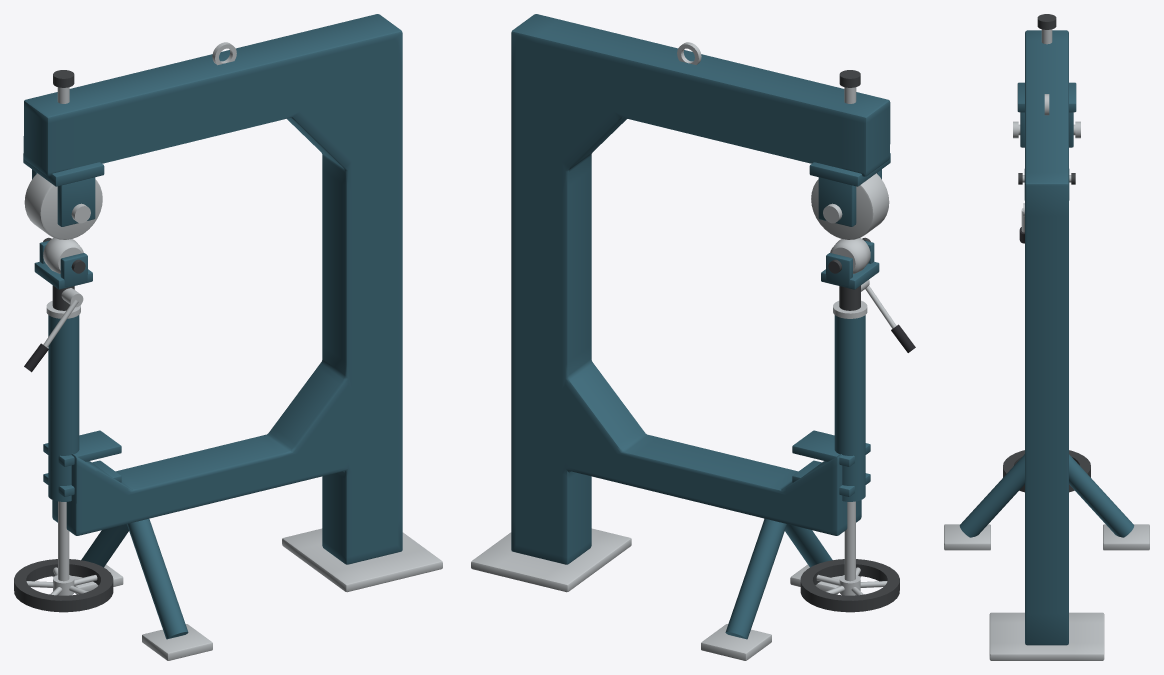
Rendered from A-NEW-20261026-ENGLISH-WHEEL-001_LOD1_R2.fbx.
3 views of the same model, side by side, from view 1: azimuth 30°, elevation 25°; view 2: azimuth 150°, elevation 25°; view 3: azimuth 270°, elevation 25° (orthographic). The views are drawn at different scales.
Visible parts, largest first — view 1: deep C frame, lower column sleeve, rear broad base plate, foot adjustment handwheel, splayed front support, upper rolling wheel, front support base plate, upper yoke cheek, column frame bracket.001, splayed front support.001, upper yoke cap, lower adjustment stem (+2 smaller); view 2: deep C frame, lower column sleeve, rear broad base plate, foot adjustment handwheel, splayed front support.001, upper rolling wheel, front support base plate.001, upper yoke cheek.001, column frame bracket.001, splayed front support, upper yoke cap, lower adjustment stem (+2 smaller); view 3: deep C frame, rear broad base plate, splayed front support, splayed front support.001, front support base plate, front support base plate.001, foot adjustment handwheel, upper yoke cap.
Part boxes in pixels (box(x1,y1,x2,y2)): deep C frame: box(23, 14, 402, 564); lower column sleeve: box(48, 315, 79, 501); rear broad base plate: box(282, 528, 442, 592); foot adjustment handwheel: box(14, 559, 113, 612); splayed front support: box(127, 518, 188, 639); upper rolling wheel: box(24, 173, 102, 239); front support base plate: box(142, 624, 212, 660); upper yoke cheek: box(57, 177, 95, 226); column frame bracket.001: box(43, 430, 121, 466); splayed front support.001: box(81, 524, 128, 567); upper yoke cap: box(23, 153, 104, 186); lower adjustment stem: box(58, 501, 69, 581); deep C frame: box(511, 14, 890, 564); lower column sleeve: box(834, 315, 865, 501); rear broad base plate: box(471, 528, 631, 592); foot adjustment handwheel: box(800, 559, 899, 612); splayed front support.001: box(725, 518, 786, 639); upper rolling wheel: box(811, 173, 889, 239); front support base plate.001: box(701, 624, 771, 660); upper yoke cheek.001: box(818, 177, 856, 226); column frame bracket.001: box(792, 430, 870, 466); splayed front support: box(785, 524, 832, 567); upper yoke cap: box(809, 153, 890, 186); lower adjustment stem: box(844, 501, 855, 581); deep C frame: box(1025, 30, 1068, 645); rear broad base plate: box(989, 612, 1104, 660); splayed front support: box(959, 454, 1024, 537); splayed front support.001: box(1069, 454, 1134, 537); front support base plate: box(944, 524, 990, 550); front support base plate.001: box(1103, 524, 1149, 550); foot adjustment handwheel: box(1003, 450, 1090, 492); upper yoke cap: box(1017, 82, 1076, 112).
Bounding box in the file's own units: 139 × 185 × 70.
